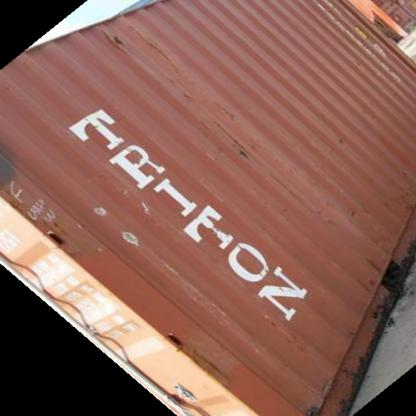Damage: (2, 168, 70, 252), (165, 324, 240, 389), (86, 186, 152, 254), (266, 299, 316, 361), (211, 100, 249, 170), (355, 247, 389, 293), (100, 24, 134, 54)
